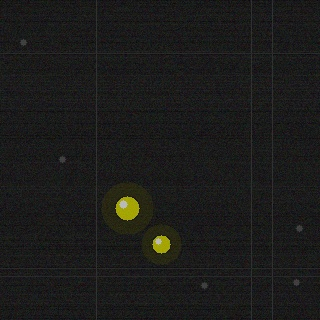yellow_warning: (113, 194, 141, 222), (150, 233, 172, 255)
